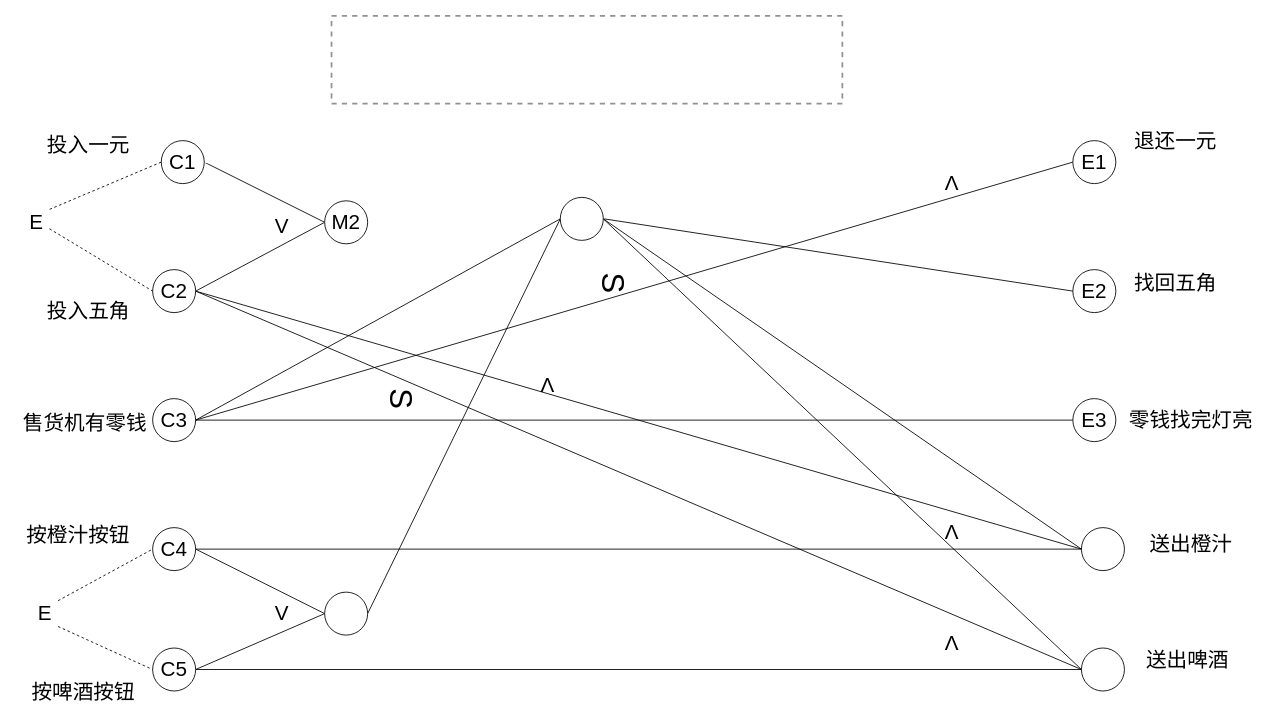
The diagram is 1275 pixels wide and 724 high, and some of its shapes have lost their labels. The centre of each missing label's shape, as x and y in pixels:
"E4" goes at point 1102,549.
"E5" goes at point 1102,669.
"M1" goes at point 346,613.
"M1:按下按钮 M2:完成投币操作 M3:可找五角" goes at point 586,59.
"M3" goes at point 581,218.
